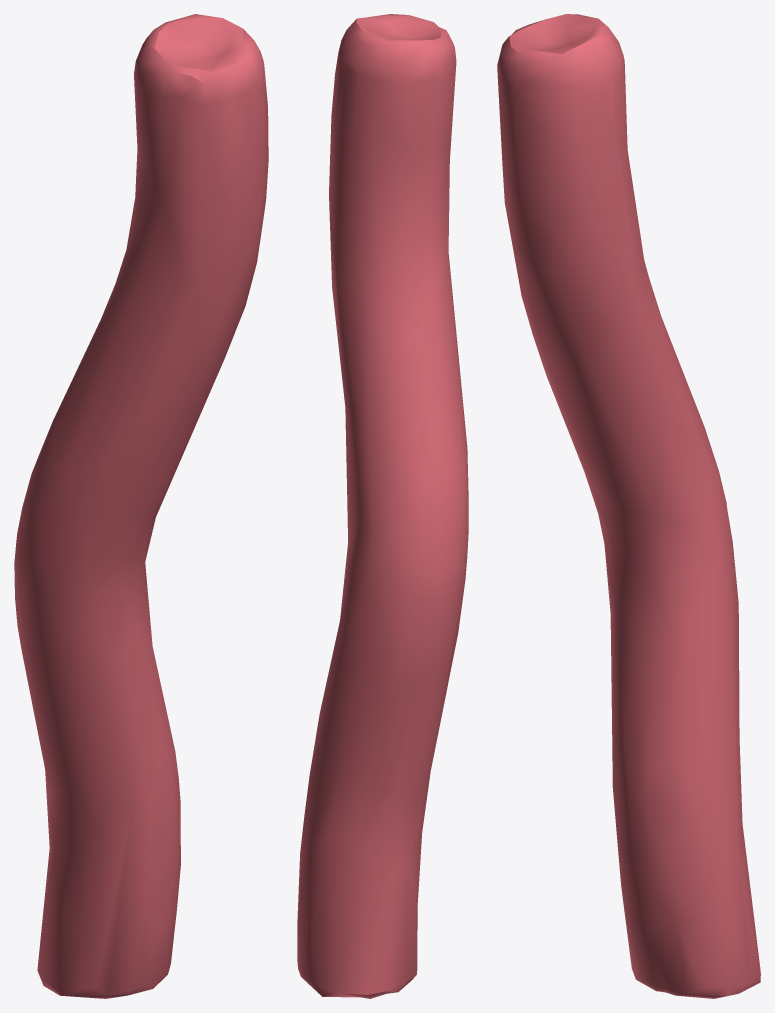
Rendered from fma4058.glb.
3 renders of one model, left to right at view 1: azimuth 30°, elevation 25°; view 2: azimuth 150°, elevation 25°; view 3: azimuth 270°, elevation 25°, orthographic. The views are drawn at different scales.
Visible parts, largest first — view 1: FMA4058; view 2: FMA4058; view 3: FMA4058.
Part boxes in pixels (box(x1,y1,x2,y2)): FMA4058: box(14, 14, 268, 998); FMA4058: box(297, 14, 468, 998); FMA4058: box(497, 14, 760, 998).
Size of the model in its own units: 0.0128 by 0.0663 by 0.0164.
